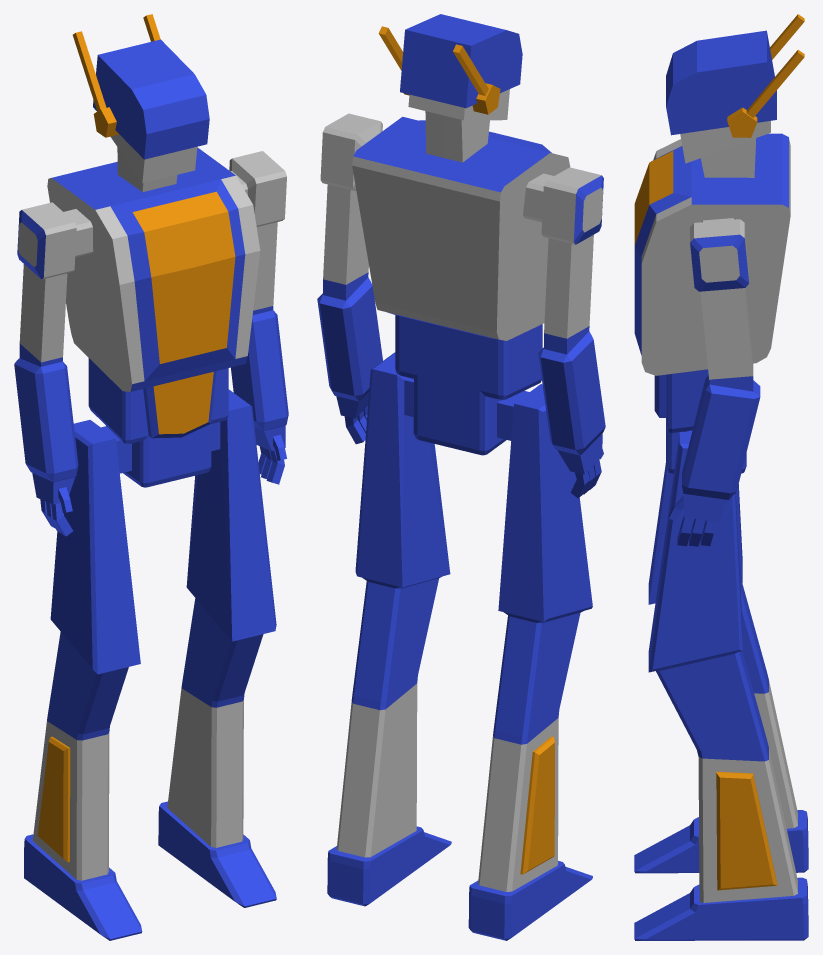
Rendered from robot_colored.fbx.
The picture shows the model from 3 angles, left to right: view 1: azimuth 30°, elevation 25°; view 2: azimuth 150°, elevation 25°; view 3: azimuth 270°, elevation 25°; orthographic projection. The views are drawn at different scales.
Visible parts, largest first — view 1: Cube; view 2: Cube; view 3: Cube.
Part boxes in pixels (x1,y1,x2,y2): Cube: [14, 14, 288, 940]; Cube: [317, 14, 605, 940]; Cube: [634, 14, 808, 940].
Size of the model in its own units: 138 by 444 by 81.
